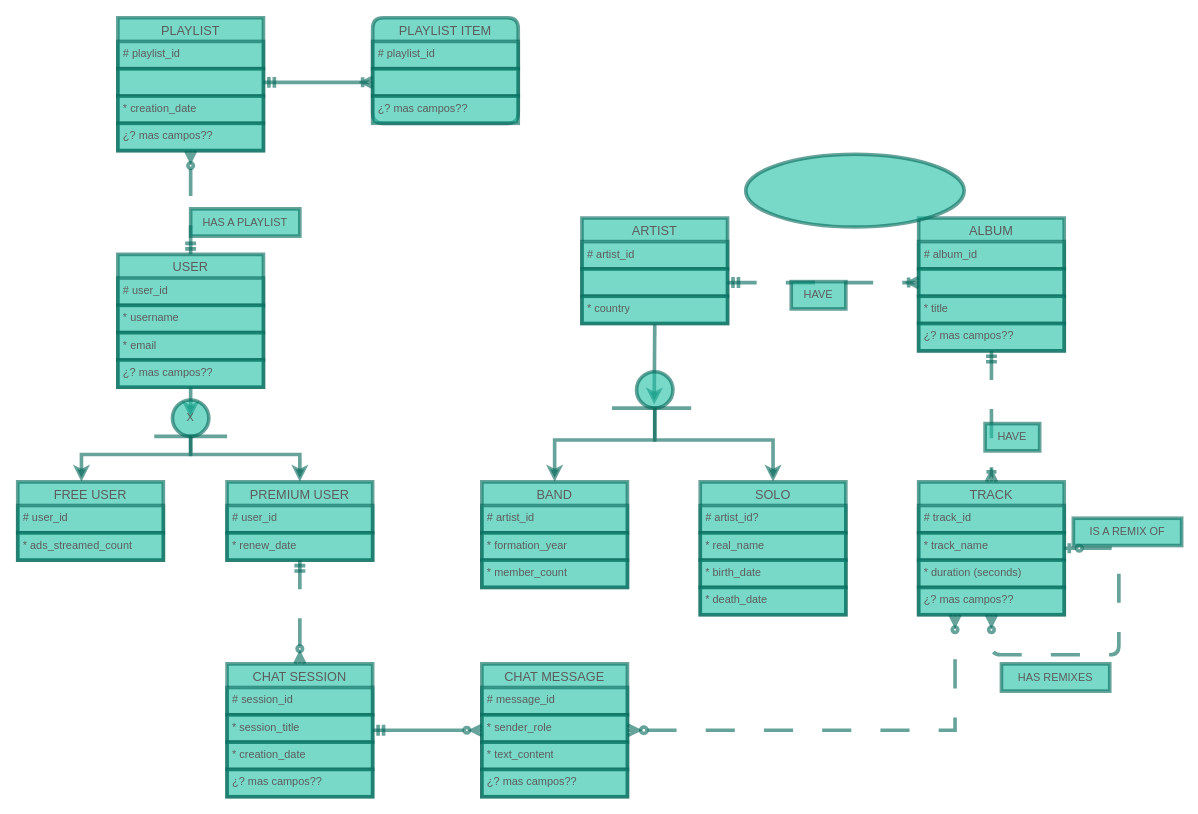
Some shapes in this 1198 by 814 pixel diagram are drawn without their labels. Each missing label, with the centre of its shape:
* added_at: (x=445, y=81)
* name: (x=190, y=81)
* release_date: (x=991, y=282)
* stage_name: (x=654, y=282)
¿? EL ABUM 1 UN SOLO ARTISTA ASIGNADO O VARIOS ?¿: (x=854, y=190)
